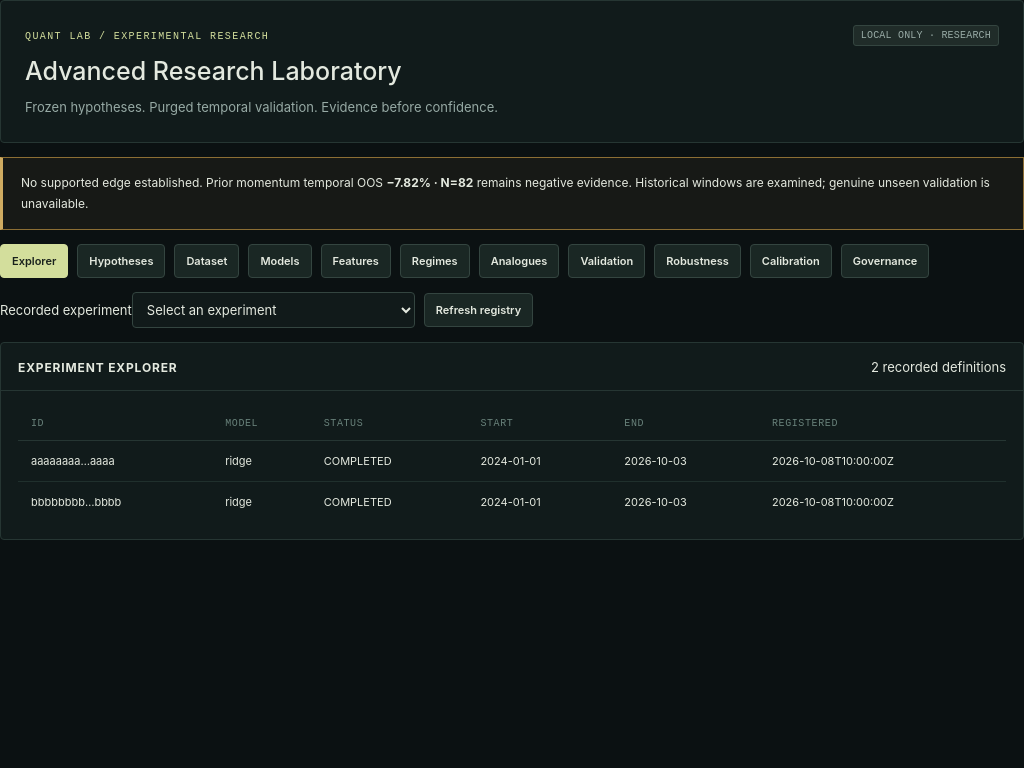
Scenario: Advanced experimental Quant Lab › pilot cannot approve owner research baseline
Select "ridge · COMPLETED · aaaaaaaa…aaaa" in the dropdown labelled "Recorded experiment" at (273, 310), box [132,292,415,328]
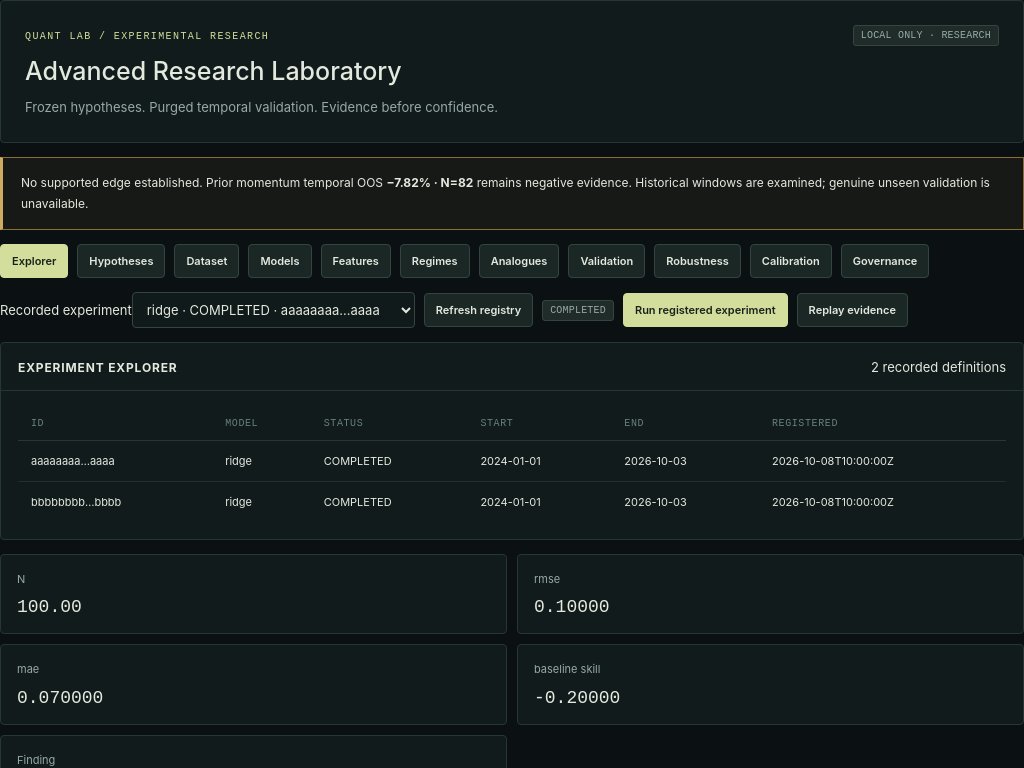
Click the tab "Governance" at (885, 261), box [841,244,929,278]
(page scrolled)
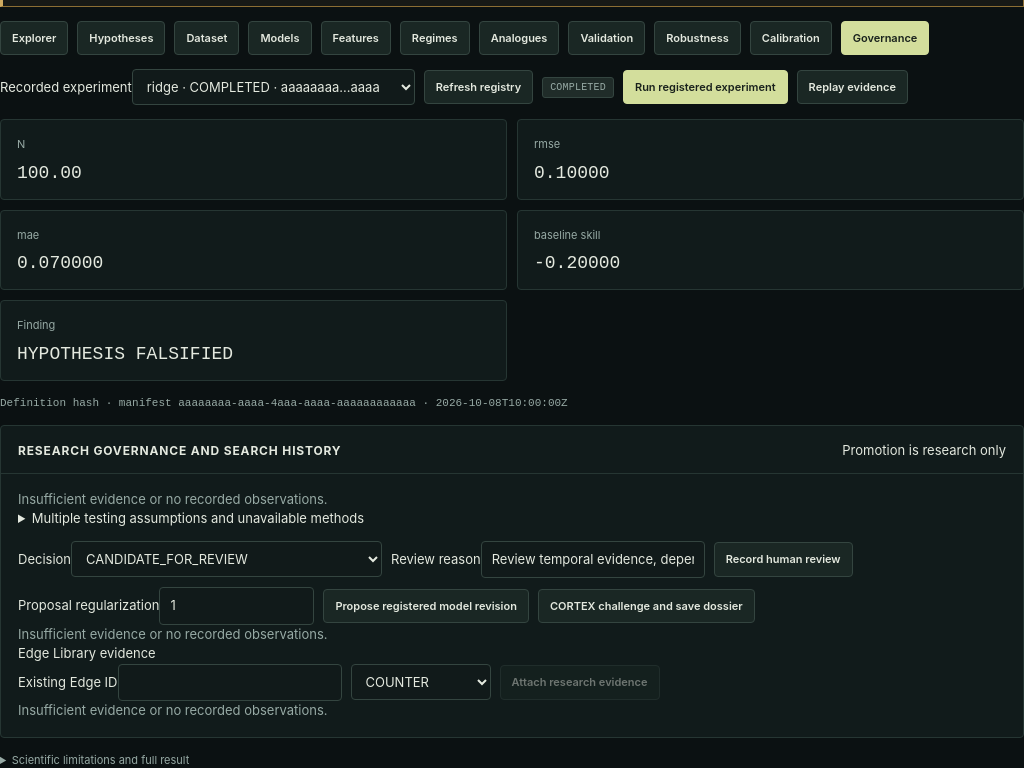
Select "HUMAN_APPROVED_RESEARCH_BASELINE" in the dropdown labelled "Decision" at (226, 559), box [71,541,382,577]
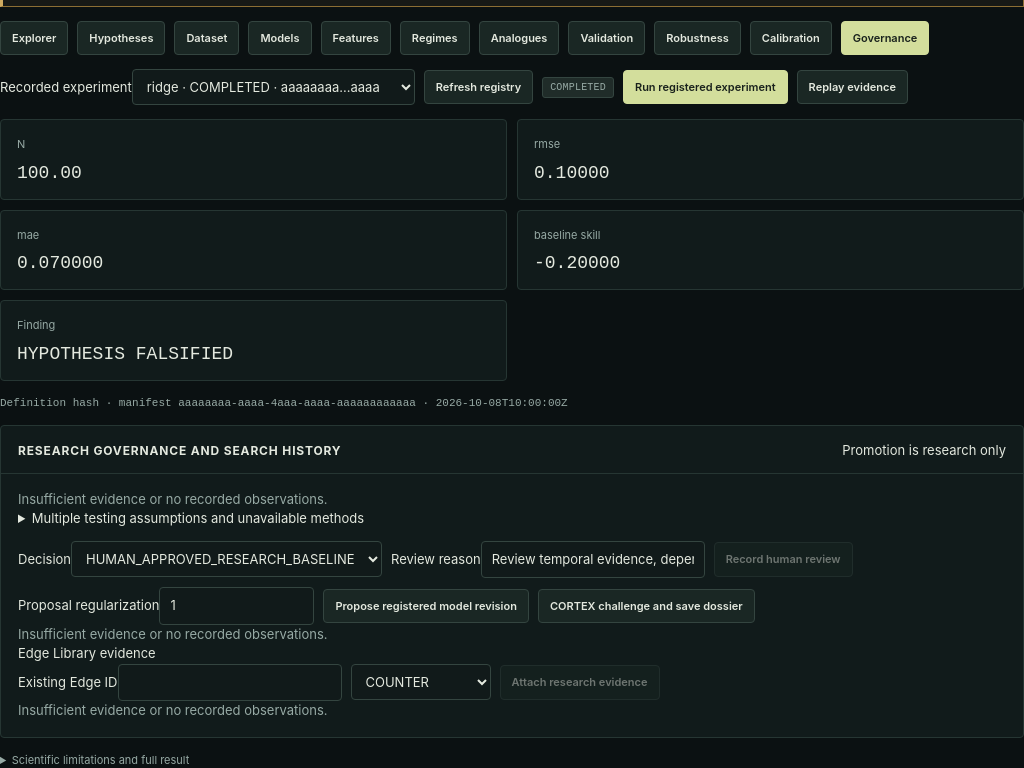
Expected: the button "Record human review" is disabled, [714,542,853,577]
